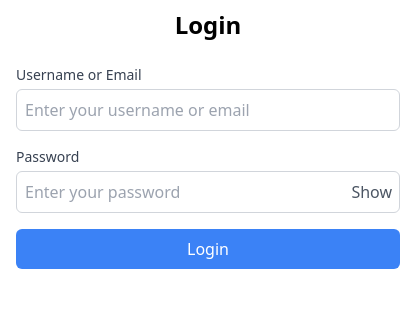
Test case: LoginForm.vue › displays an error message when password is missing
Type "test@example.com" into the field labelled "Username or Email". click: (208, 110)
box: [16,89,400,131]
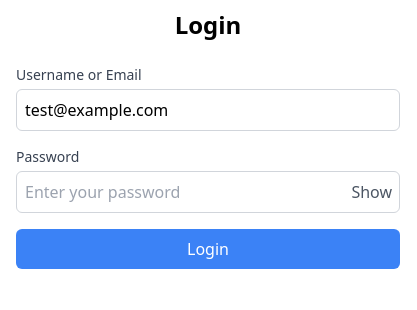
Submit the form
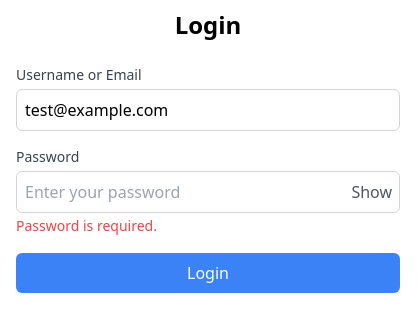
Result: the text "Password is required." is shown at [16,216,157,235]
